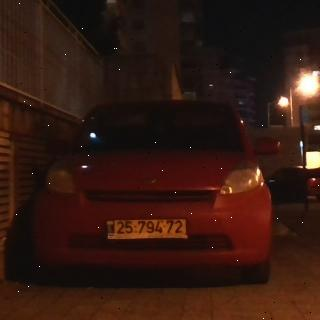LicensePlate: (115, 220, 186, 235)
